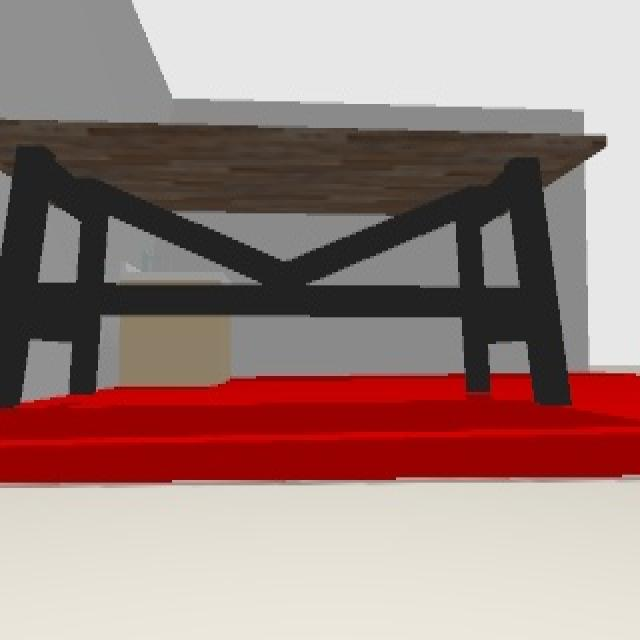dining: (1, 118, 607, 402)
